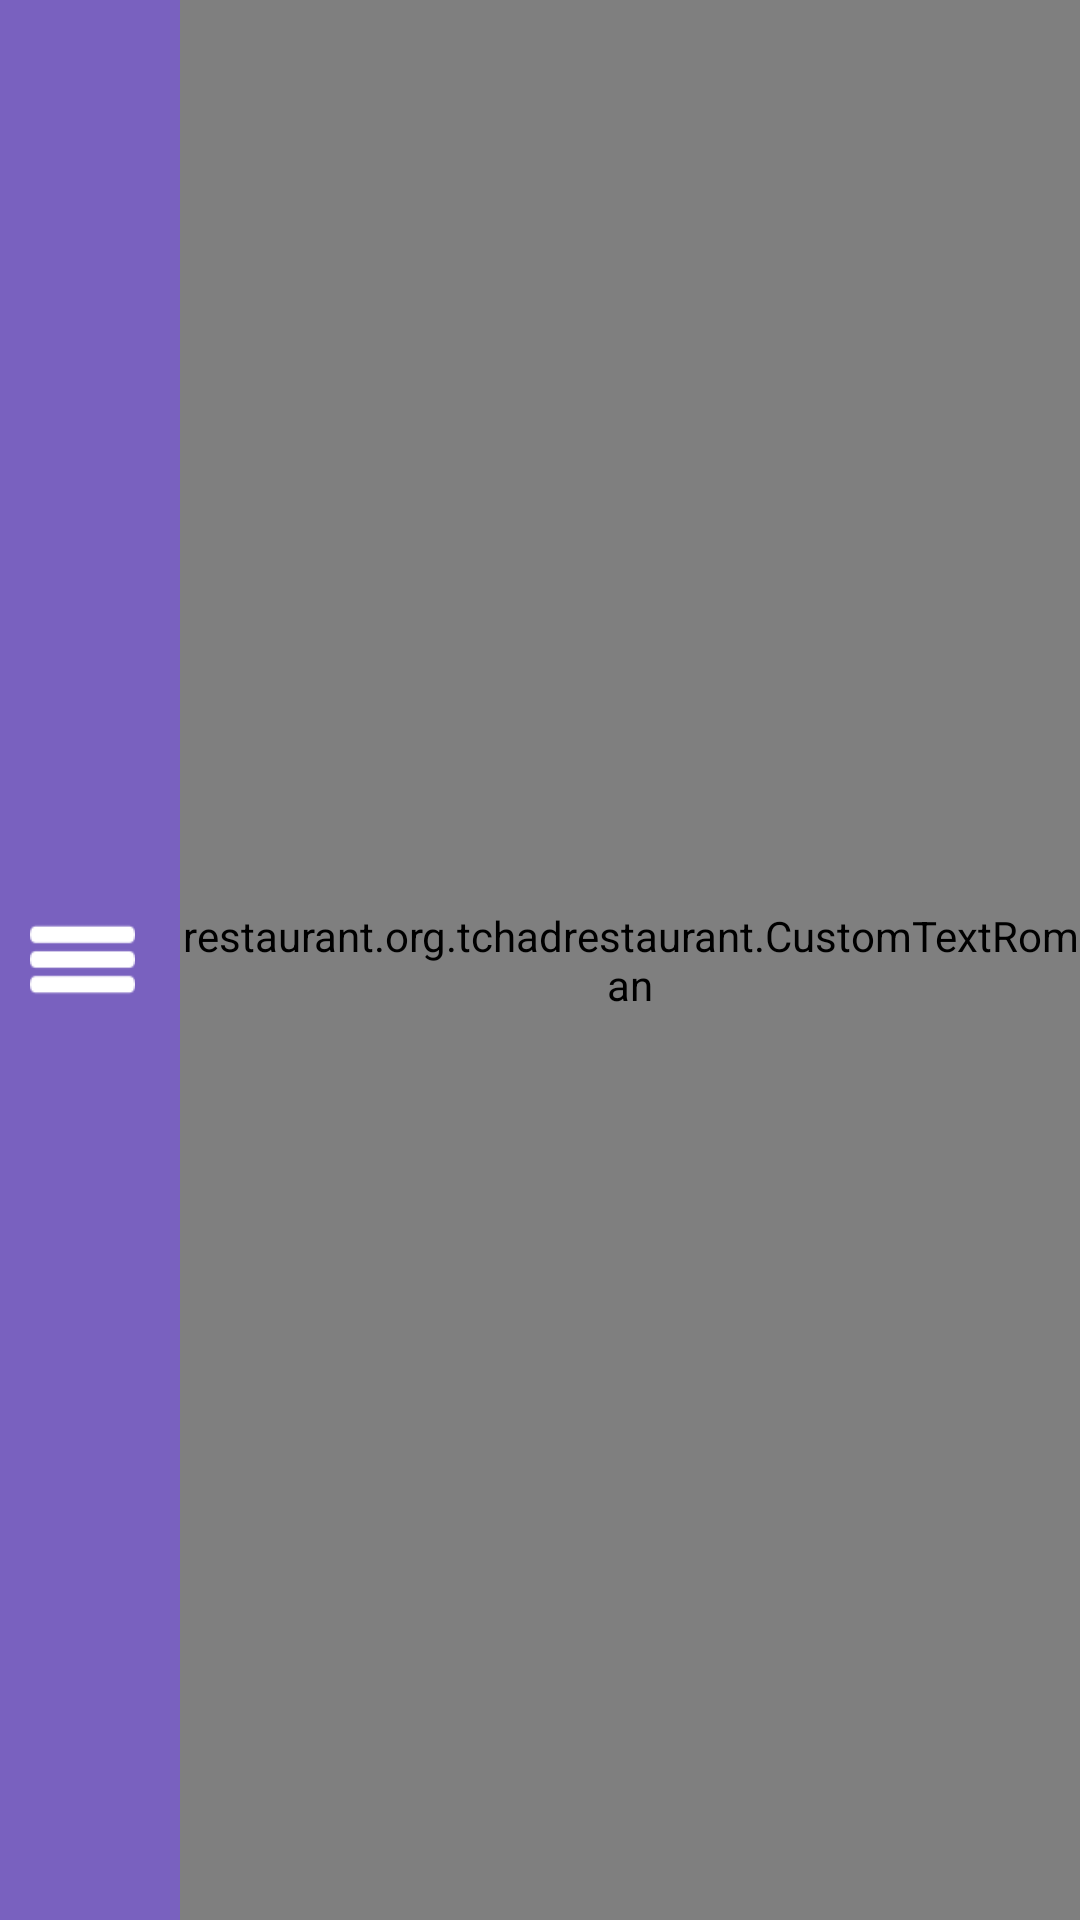

Icon click points for this 1080x1920 phone screenshot, format (x,y):
menu: (82,959)
